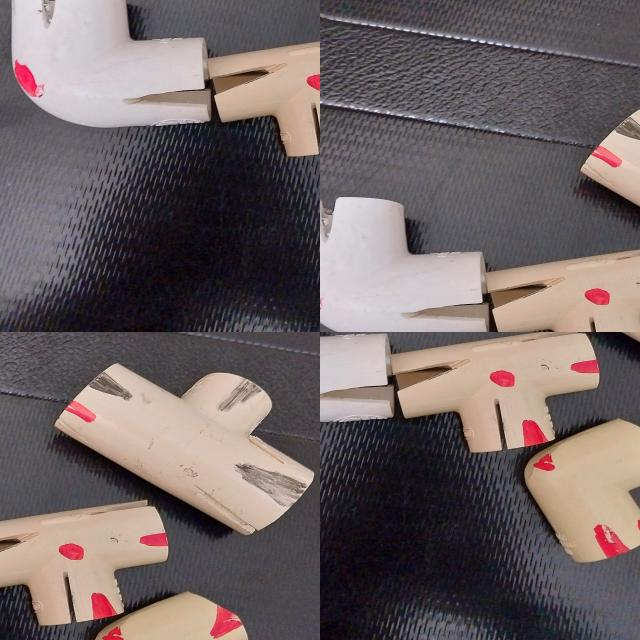Defective: (528, 2, 634, 39), (128, 408, 216, 446), (537, 261, 585, 322), (320, 383, 394, 403), (490, 390, 510, 451), (400, 366, 457, 384), (594, 523, 622, 555), (21, 389, 53, 411), (182, 384, 215, 400), (524, 421, 545, 446), (489, 372, 515, 388), (568, 362, 597, 376), (531, 457, 556, 472), (636, 521, 640, 539)
L Joint: (400, 0, 634, 144), (30, 332, 216, 472), (452, 240, 640, 332), (523, 421, 640, 564), (320, 332, 418, 420)
T Joint: (378, 332, 609, 450)
